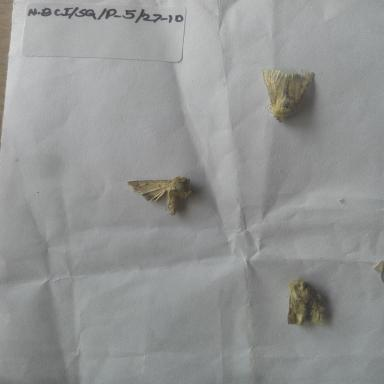abw: (122, 168, 204, 221), (256, 63, 320, 125), (271, 276, 339, 331)
